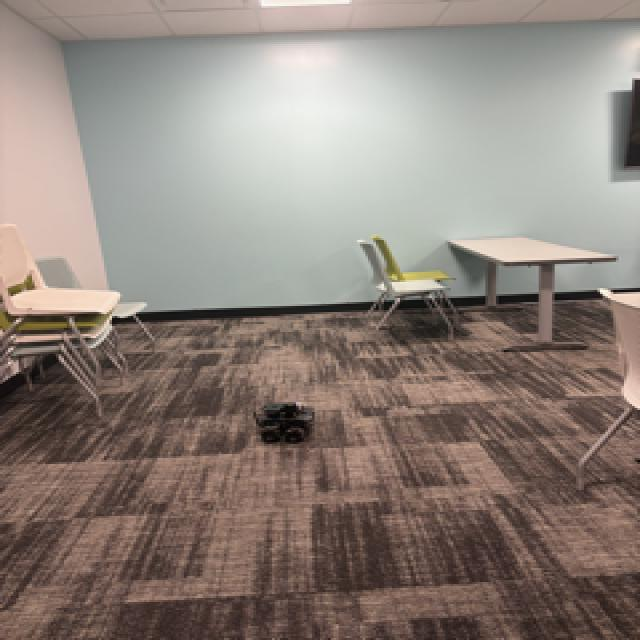ArduinoCar3: (246, 401, 320, 444)
